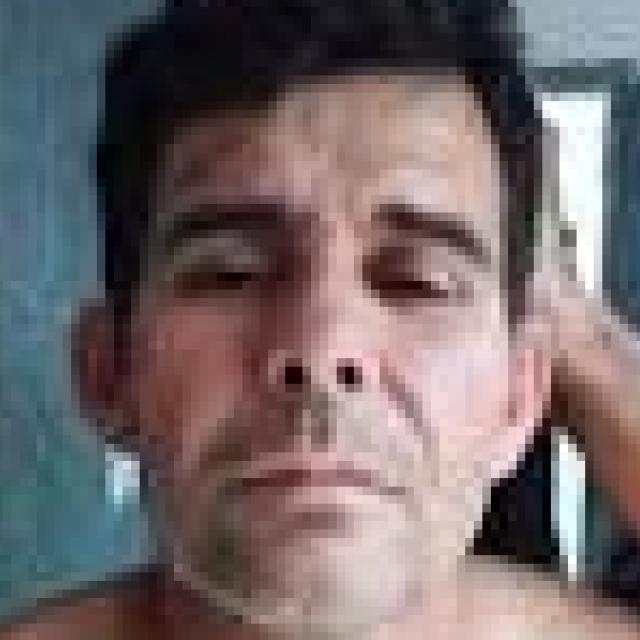Depress: (130, 63, 507, 639)
